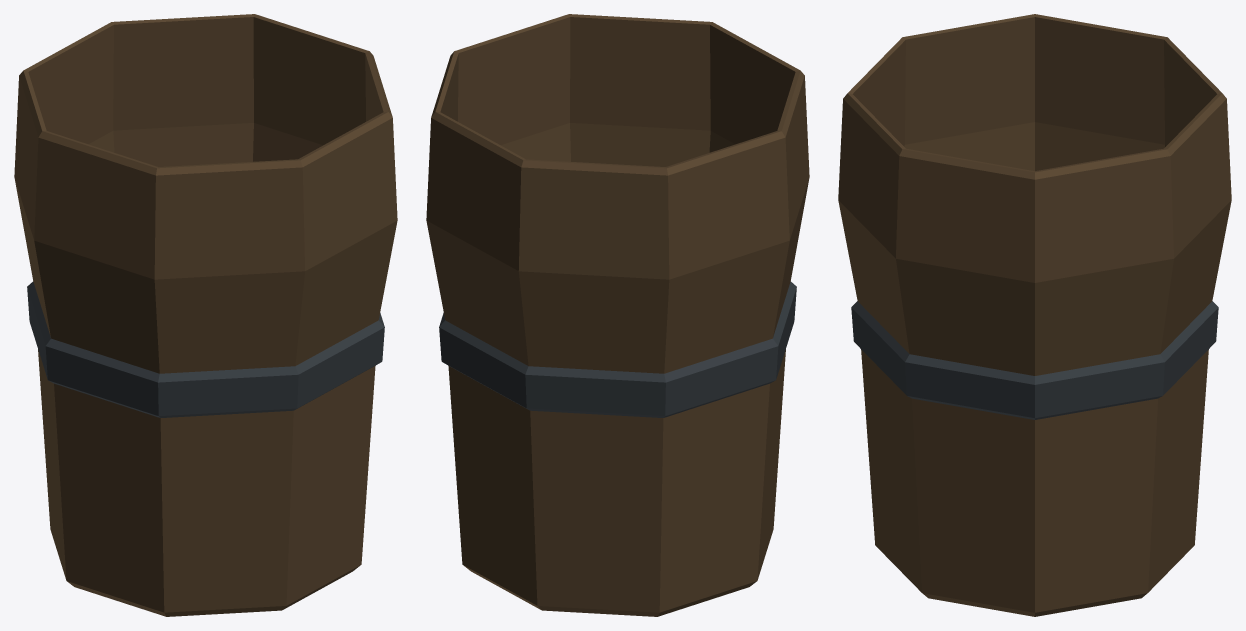
Rendered from WineGlass_1.fbx.
3 renders of one model, left to right at view 1: azimuth 30°, elevation 25°; view 2: azimuth 150°, elevation 25°; view 3: azimuth 270°, elevation 25°, orthographic.
Visible parts, largest first — view 1: WineGlass_1; view 2: WineGlass_1; view 3: WineGlass_1.
Part boxes in pixels (x1,y1,x2,y2): WineGlass_1: (14, 14, 397, 616); WineGlass_1: (426, 14, 809, 616); WineGlass_1: (838, 14, 1231, 616).
Size of the model in its own units: 17.81 by 22.97 by 17.81.
